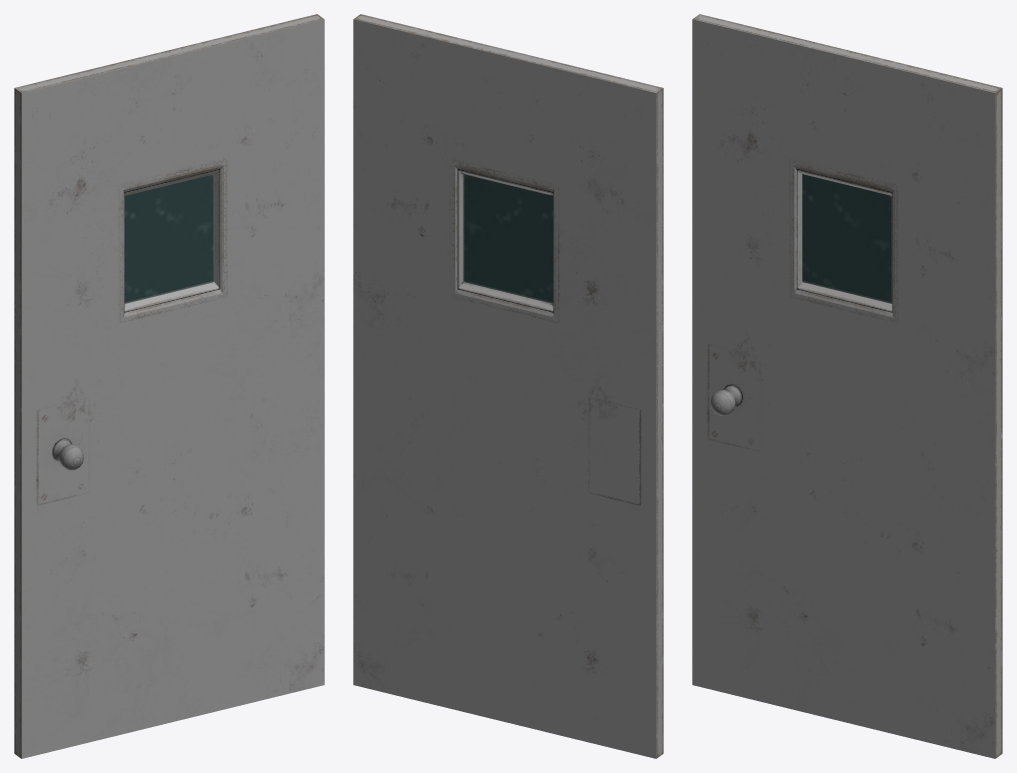
File: metal_door.glb
3 renders of one model, left to right at view 1: azimuth 30°, elevation 25°; view 2: azimuth 150°, elevation 25°; view 3: azimuth 330°, elevation 25°, orthographic.
Parts seen in each view (by area): view 1: Cube; view 2: Cube; view 3: Cube.
Boxes of the visible parts, x1,y1,x2,y2 form: Cube: (14, 14, 324, 758); Cube: (353, 14, 663, 758); Cube: (692, 14, 1002, 758).
Bounding box in the file's own units: 0.9524 × 2 × 0.123.
Materials: 1 (1 with a texture image).
